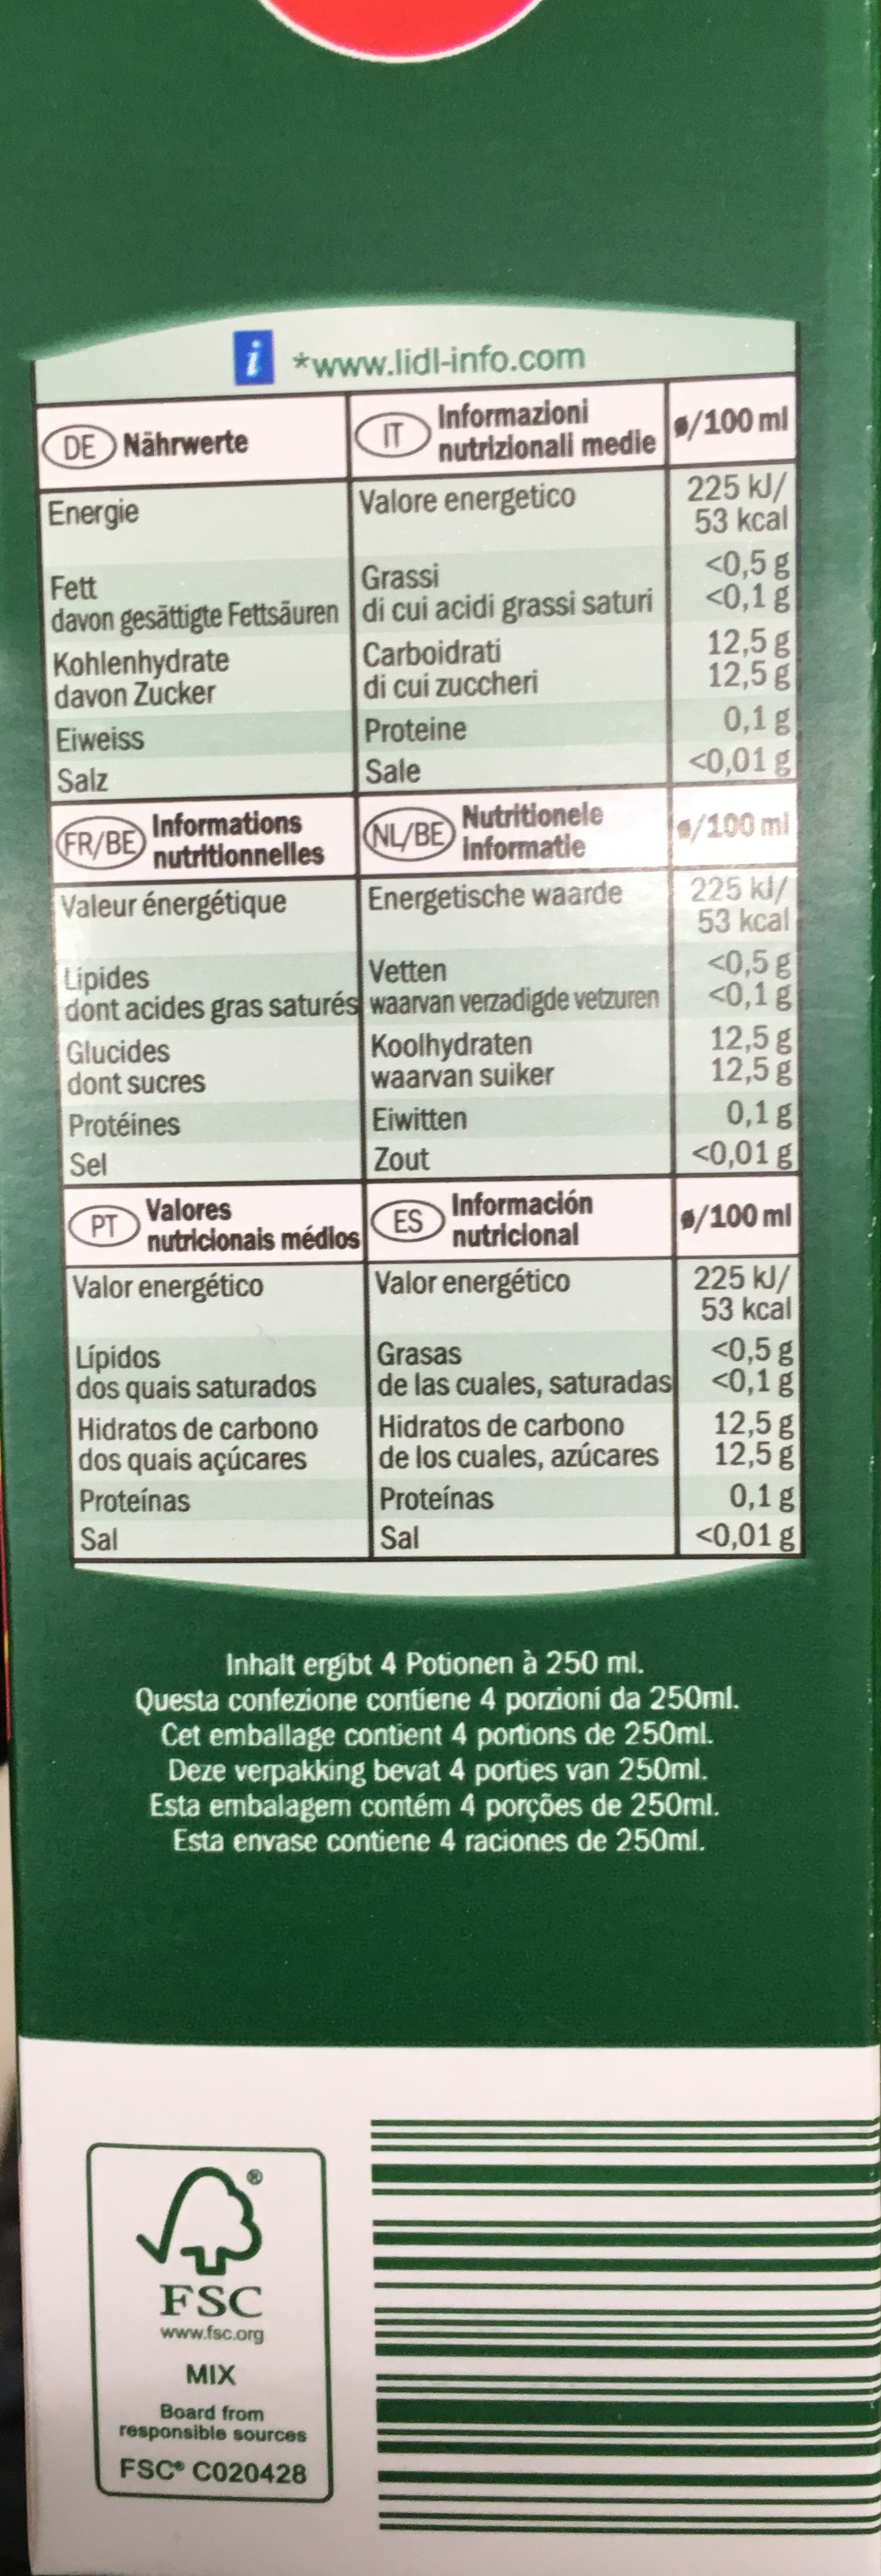column: (360, 401, 656, 789), (44, 414, 339, 787), (365, 802, 661, 1165), (375, 1189, 664, 1561), (61, 802, 348, 1175), (67, 1193, 365, 1551), (671, 792, 796, 1175), (674, 396, 794, 779), (687, 1189, 796, 1544)
table: (30, 306, 814, 1602)
